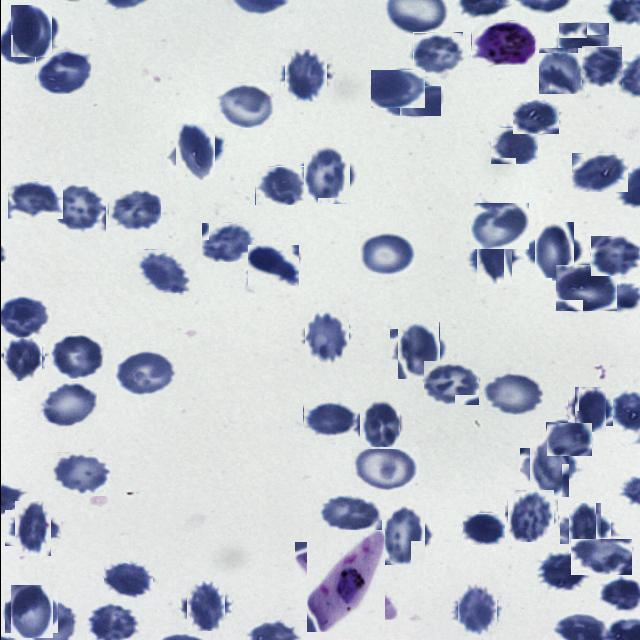gametocyte: (470, 20, 534, 65)
red blood cell: (351, 448, 419, 493), (114, 349, 176, 396), (554, 264, 616, 311), (213, 82, 273, 128), (480, 371, 542, 415), (37, 382, 96, 428), (376, 508, 428, 560), (300, 149, 352, 201), (54, 181, 105, 234), (470, 203, 528, 249), (52, 452, 110, 496), (422, 360, 478, 405), (393, 326, 443, 376), (506, 491, 556, 541), (302, 311, 352, 361), (360, 232, 416, 276), (34, 50, 90, 94), (318, 494, 379, 534), (524, 443, 573, 492), (170, 128, 220, 176), (50, 333, 102, 379), (530, 227, 578, 276), (136, 249, 189, 293), (281, 51, 329, 99), (6, 588, 54, 636), (570, 152, 627, 192), (107, 188, 160, 231), (382, 77, 440, 116), (6, 8, 54, 54), (412, 32, 462, 76), (570, 539, 631, 575), (6, 180, 62, 219), (200, 222, 254, 262), (356, 400, 402, 446), (453, 587, 499, 633), (10, 505, 56, 551), (538, 48, 584, 94), (589, 235, 640, 276), (247, 245, 298, 286), (470, 235, 516, 280), (303, 400, 357, 438), (370, 70, 424, 108), (183, 584, 228, 628), (254, 166, 304, 205), (557, 22, 608, 60), (537, 554, 586, 593), (489, 127, 537, 164), (103, 563, 152, 599), (580, 46, 621, 88), (564, 508, 606, 548), (2, 338, 42, 379), (545, 422, 591, 456), (570, 390, 608, 430), (512, 102, 558, 134), (461, 513, 504, 545)
trophozoite: (300, 536, 390, 626)
